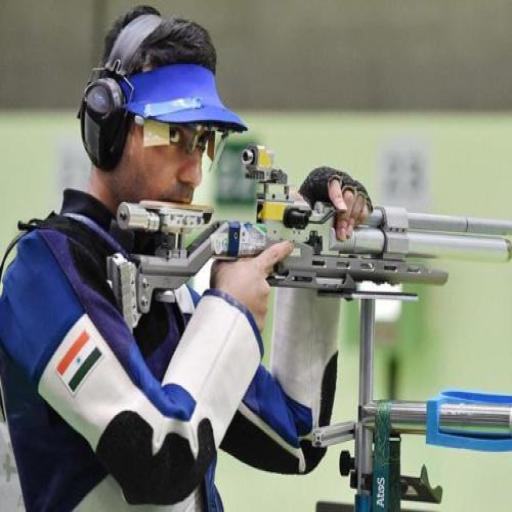shooting: (0, 4, 376, 511)
